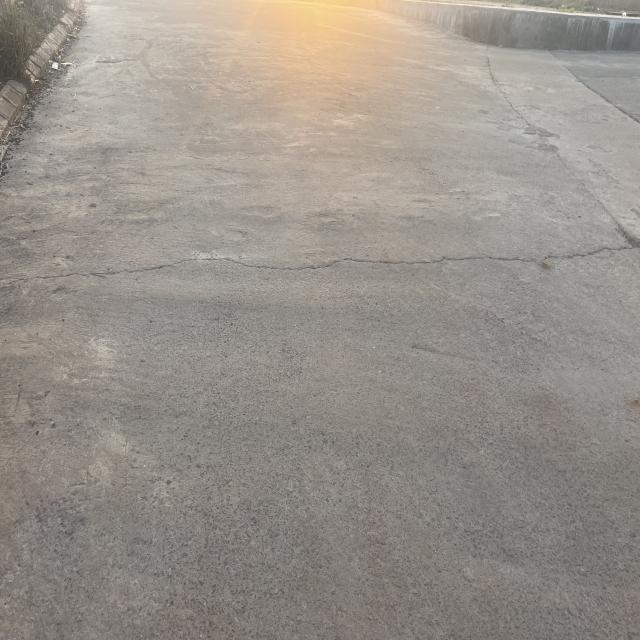D43: (36, 221, 640, 299)
